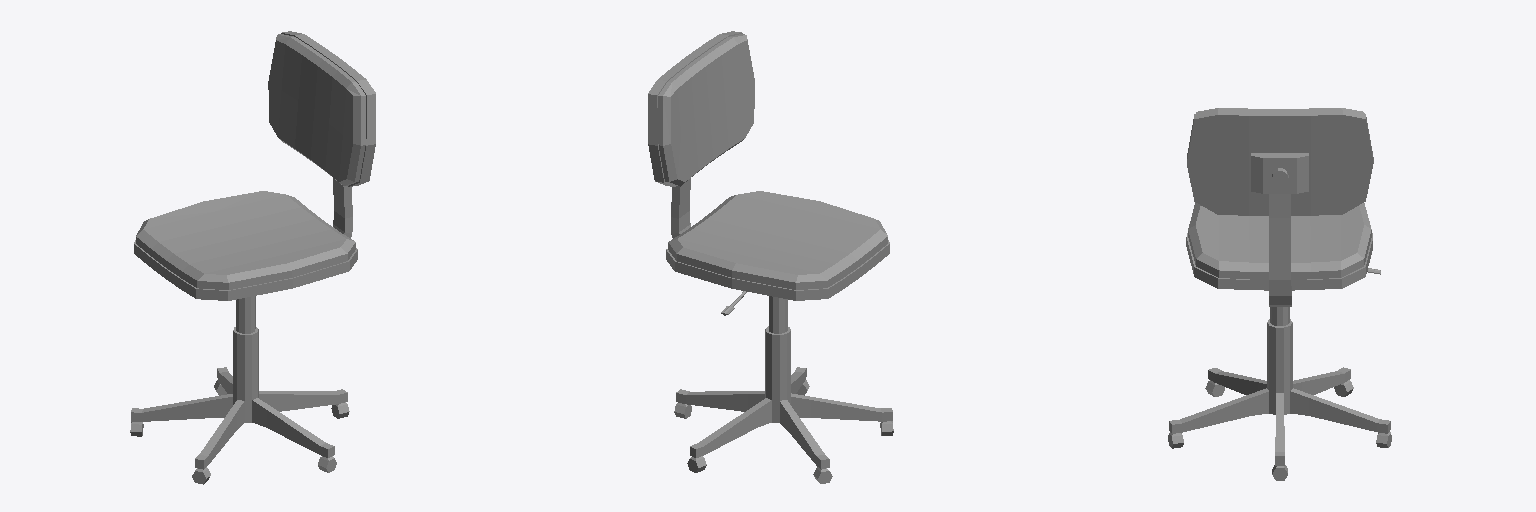
File: origin_office_chair.obj
The picture shows the model from 3 angles: view 1: azimuth 30°, elevation 25°; view 2: azimuth 150°, elevation 25°; view 3: azimuth 270°, elevation 25°; orthographic projection.
Parts seen in each view (by area): view 1: Stool_Cube.133; view 2: Stool_Cube.133; view 3: Stool_Cube.133.
Part boxes in pixels (x1,y1,x2,y2): Stool_Cube.133: (130,31,375,484); Stool_Cube.133: (648,31,893,483); Stool_Cube.133: (1168,108,1391,480).
Bounding box in the file's own units: 2.39 × 4.35 × 2.44.